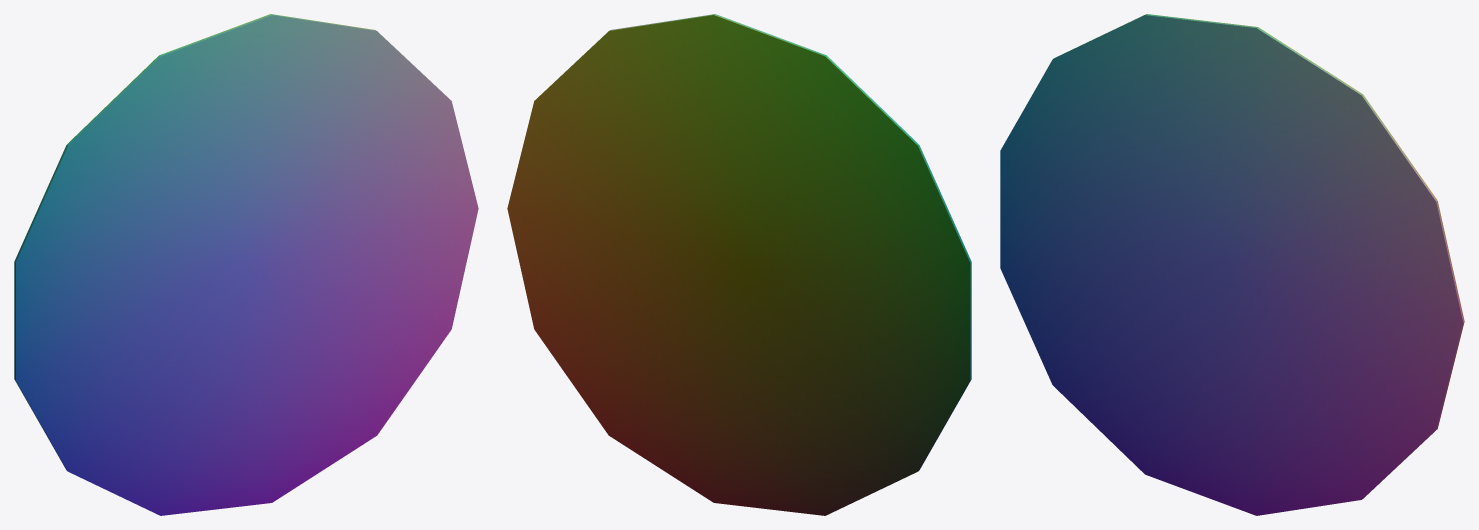
File: zeometry-flat-shapes-flat-oval_v7.glb
The picture shows the model from 3 angles, left to right: view 1: azimuth 30°, elevation 25°; view 2: azimuth 150°, elevation 25°; view 3: azimuth 330°, elevation 25°; orthographic projection.
Parts seen in each view (by area): view 1: Flat Oval_v7; view 2: Flat Oval_v7; view 3: Flat Oval_v7.
Boxes of the visible parts, box(x1,y1,x2,y2) form: Flat Oval_v7: box(14, 14, 478, 515); Flat Oval_v7: box(507, 14, 971, 515); Flat Oval_v7: box(1000, 14, 1464, 515).
Size of the model in its own units: 0.4964 by 0.5 by 0.00282.
